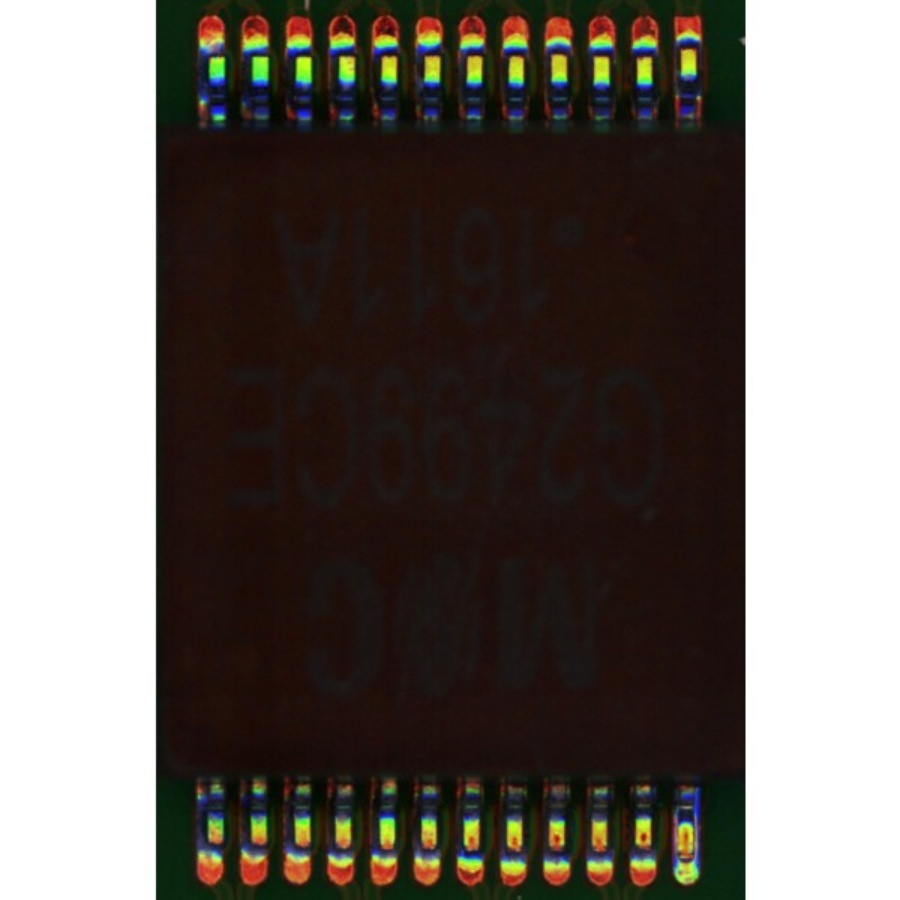Bad_qiaojiao: (693, 810, 699, 861)
